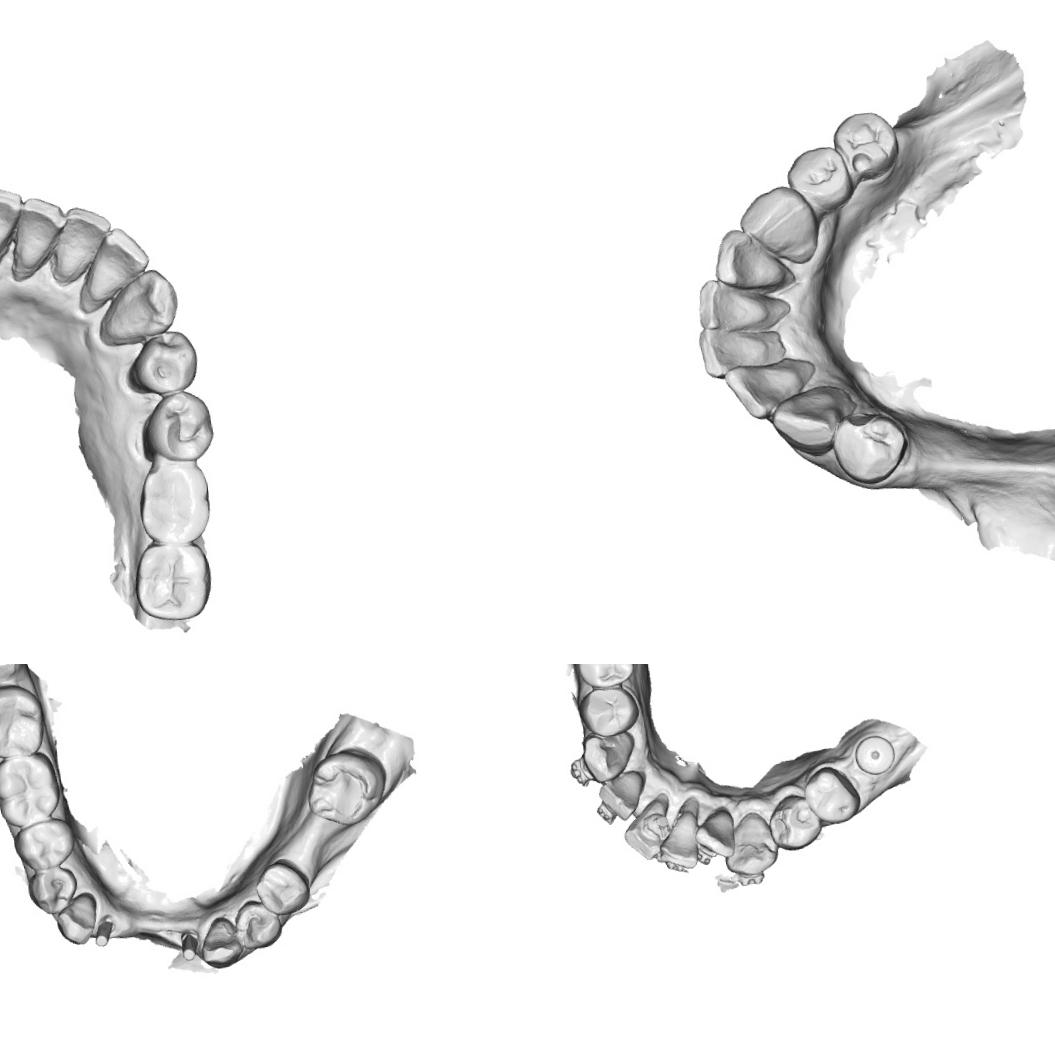abutment: (176, 927, 201, 963), (91, 916, 117, 949)
canine: (734, 180, 820, 270), (93, 265, 182, 347), (768, 381, 848, 459), (718, 808, 782, 888), (565, 728, 640, 789), (50, 889, 102, 948), (196, 912, 246, 972)
implant: (852, 731, 896, 776)
incisor: (690, 270, 795, 340), (720, 356, 820, 421), (694, 316, 793, 380), (710, 223, 790, 295), (50, 202, 118, 282), (83, 224, 152, 300), (7, 193, 72, 273), (649, 794, 709, 876), (618, 789, 676, 863), (588, 766, 651, 828), (690, 802, 740, 861), (0, 183, 28, 264)
molar: (302, 744, 392, 830), (129, 536, 215, 624), (134, 457, 214, 546), (0, 748, 64, 831), (0, 679, 49, 763)
premolar: (134, 388, 218, 466), (832, 408, 910, 488), (124, 324, 201, 402), (830, 108, 902, 185), (782, 142, 855, 216), (800, 762, 864, 829), (765, 789, 825, 855), (10, 815, 78, 873), (574, 684, 642, 740), (252, 857, 312, 918), (24, 862, 81, 916), (231, 895, 284, 953), (571, 664, 639, 691)
